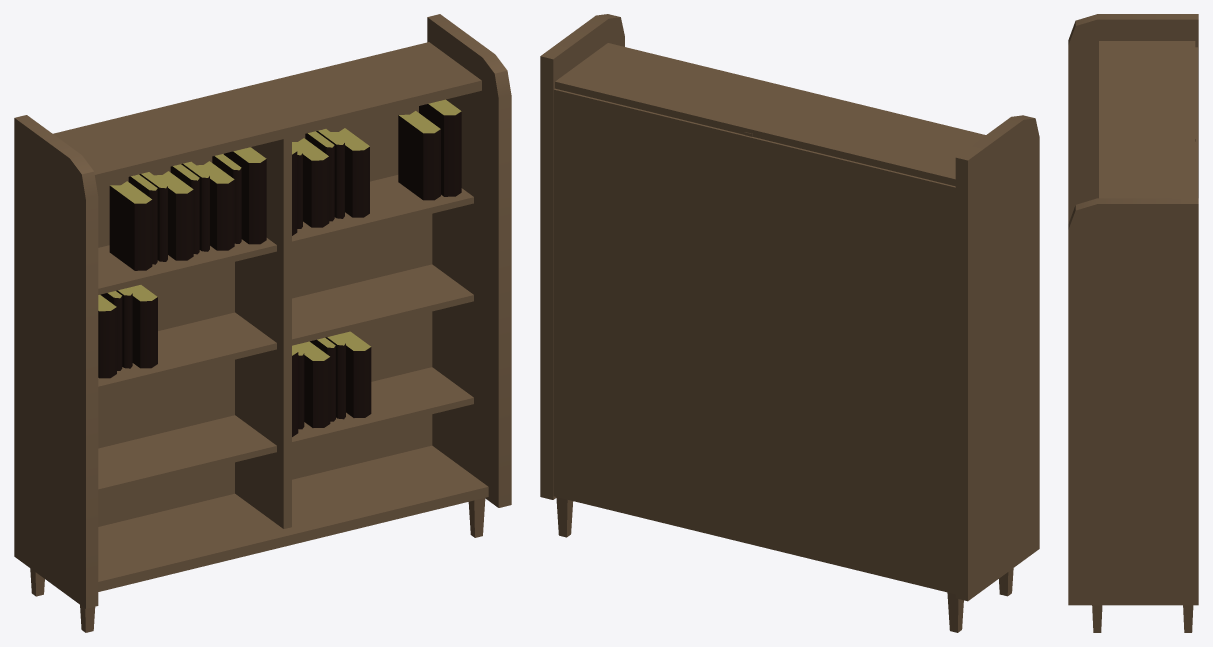
The model's file is Skaf_Book_type2.FBX.
3 renders of one model, left to right at view 1: azimuth 30°, elevation 25°; view 2: azimuth 150°, elevation 25°; view 3: azimuth 270°, elevation 25°, orthographic. The views are drawn at different scales.
Parts seen in each view (by area): view 1: Skaf_book_01, Book_type3_007, Book_type3_008, Book_type1_007, Book_type1_008, Book_type3_002, Book_type3_009, Book_type6_006, Book_type6_007, Book_type6_002, Book_type3_006, Book_type6_008 (+10 smaller); view 2: Skaf_book_01; view 3: Skaf_book_01.
Part boxes in pixels (x1,y1,x2,y2): Skaf_book_01: (14,14,511,632); Book_type3_007: (109,181,152,270); Book_type3_008: (398,111,440,200); Book_type1_007: (224,147,266,244); Book_type1_008: (419,99,461,196); Book_type3_002: (292,138,329,227); Book_type3_009: (294,341,330,427); Book_type6_006: (154,171,193,260); Book_type6_007: (335,331,371,417); Book_type6_002: (331,128,369,217); Book_type3_006: (197,161,234,250); Book_type6_008: (126,285,157,368); Skaf_book_01: (540,14,1039,632); Skaf_book_01: (1068,14,1198,632).
Size of the model in its own units: 361 by 386 by 105.
